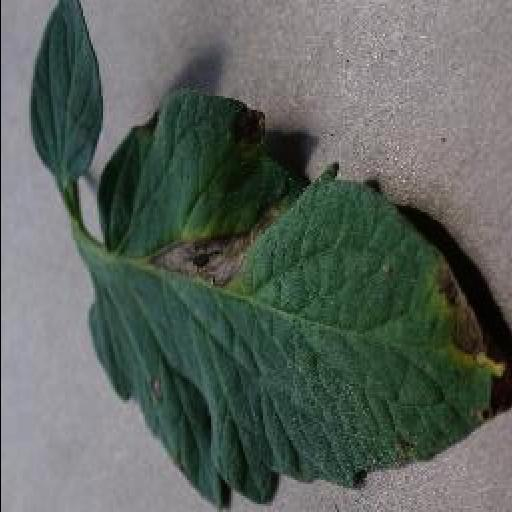disease_tomato: (90, 86, 508, 512)
